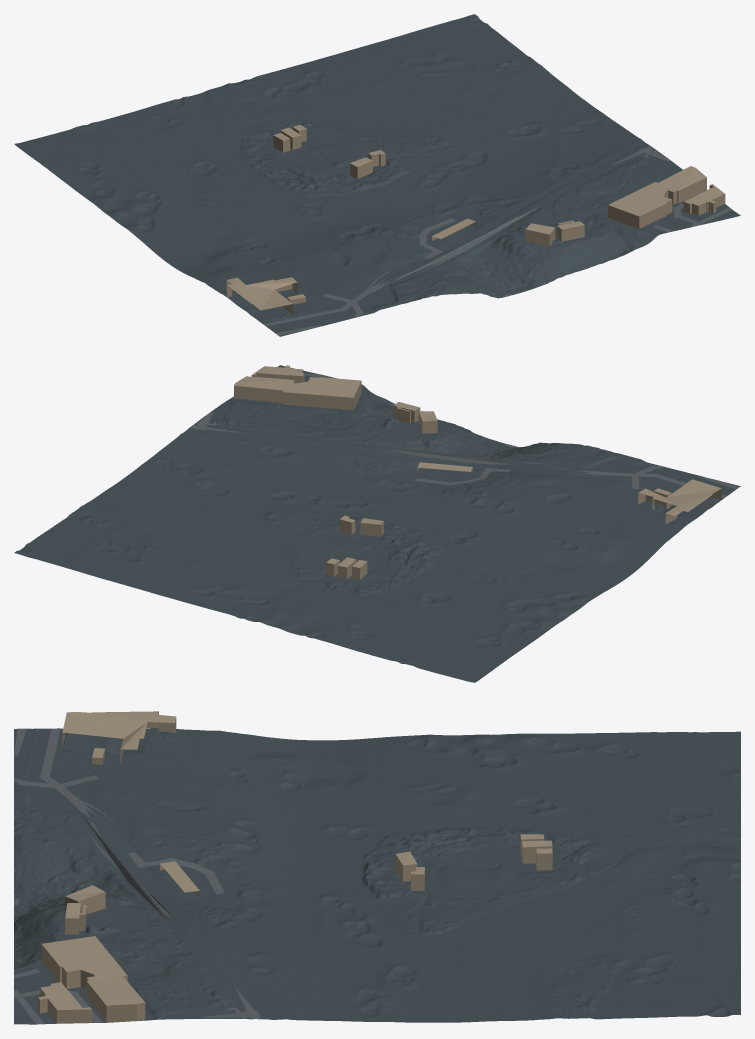
The model's file is epsg26910-1422-10869.lod0.glb.
3 renders of one model, top to bottom at view 1: azimuth 30°, elevation 25°; view 2: azimuth 150°, elevation 25°; view 3: azimuth 270°, elevation 25°, orthographic. The views are drawn at different scales.
Visible parts, largest first — view 1: epsg26910-1422-10869-lod0; view 2: epsg26910-1422-10869-lod0; view 3: epsg26910-1422-10869-lod0.
Boxes of the visible parts, x1=… form: epsg26910-1422-10869-lod0: x1=14, y1=14, x2=740, y2=336; epsg26910-1422-10869-lod0: x1=14, y1=365, x2=740, y2=682; epsg26910-1422-10869-lod0: x1=14, y1=711, x2=740, y2=1024.
Bounding box in the file's own units: 384 × 30.94 × 384.
